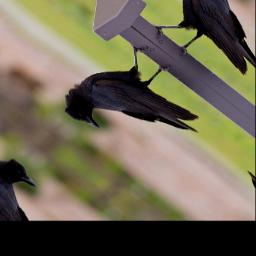Crow: (53, 33, 226, 179)
